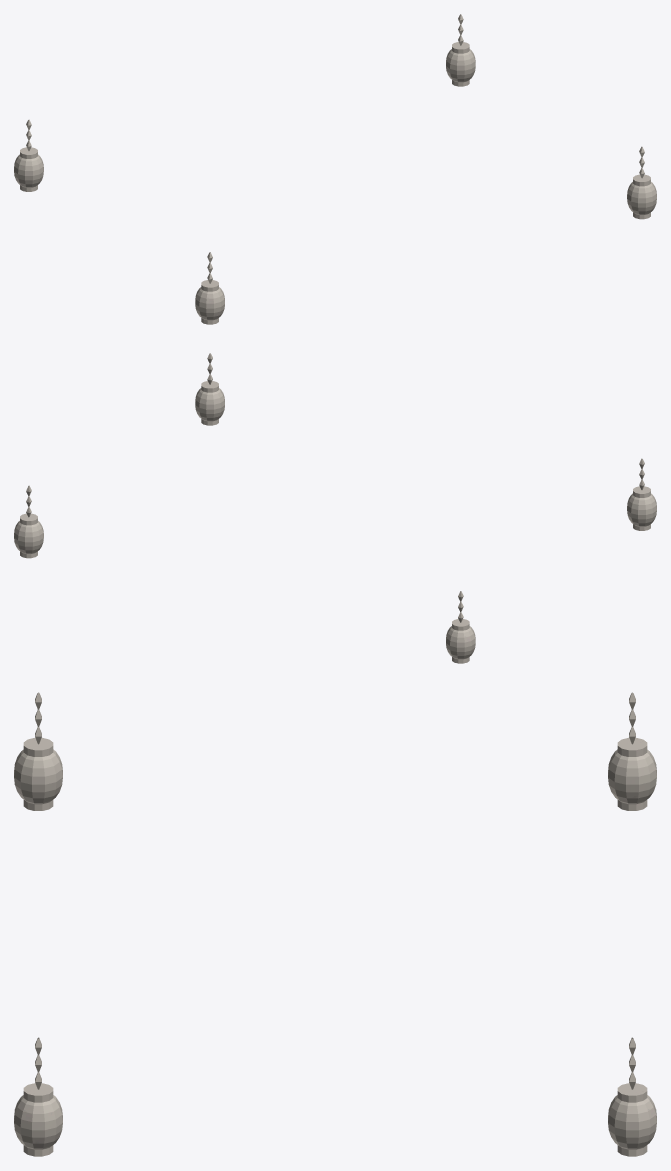
File: SM_ENV_KNVLLG_AreaJ_Building_A_Lanterns.fbx
The picture shows the model from 3 angles, top to bottom: view 1: azimuth 30°, elevation 25°; view 2: azimuth 150°, elevation 25°; view 3: azimuth 270°, elevation 25°; orthographic projection. The views are drawn at different scales.
Visible parts, largest first — view 1: SM_ENV_KNVLLG_AreaJ_Building_A_Lanterns.mo; view 2: SM_ENV_KNVLLG_AreaJ_Building_A_Lanterns.mo; view 3: SM_ENV_KNVLLG_AreaJ_Building_A_Lanterns.mo.
Part boxes in pixels (bbox=[...]): SM_ENV_KNVLLG_AreaJ_Building_A_Lanterns.mo: bbox=[14, 14, 656, 324]; SM_ENV_KNVLLG_AreaJ_Building_A_Lanterns.mo: bbox=[14, 353, 656, 663]; SM_ENV_KNVLLG_AreaJ_Building_A_Lanterns.mo: bbox=[14, 692, 656, 1156].
Size of the model in its own units: 6972 by 998 by 5174.
